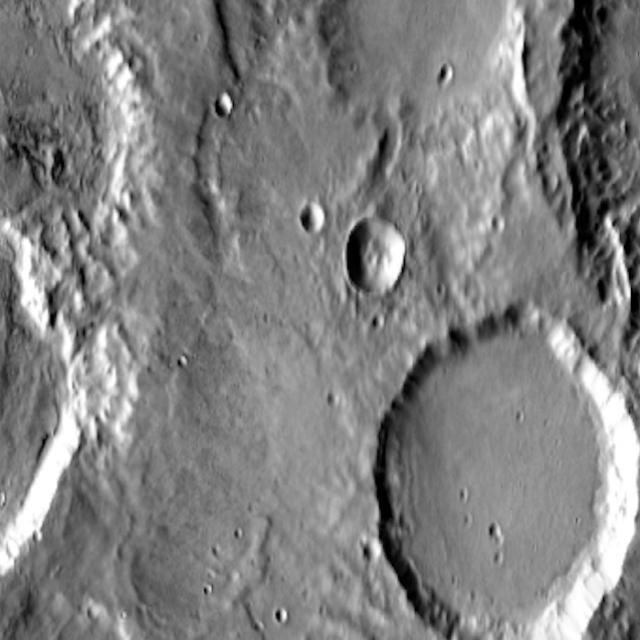Crater: (332, 273, 640, 640), (506, 0, 640, 464), (0, 129, 103, 640), (128, 634, 639, 640)
